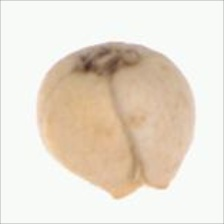L3: (109, 179, 172, 202)
L4: (36, 42, 195, 198)
